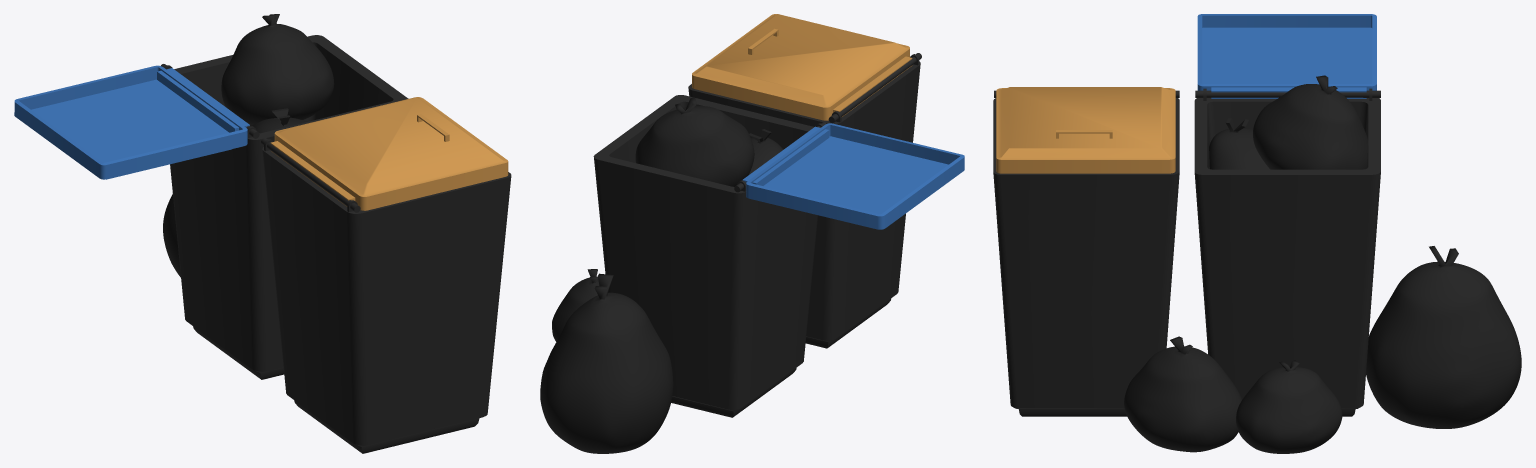
Rendered from TRASHCAN.fbx.
The picture shows the model from 3 angles, left to right: view 1: azimuth 30°, elevation 25°; view 2: azimuth 150°, elevation 25°; view 3: azimuth 270°, elevation 25°; orthographic projection. The views are drawn at different scales.
Parts seen in each view (by area): view 1: Cube.005, Cube.007, Plastics; view 2: Cube.007, Cube.005, Plastics; view 3: Cube.005, Cube.007, Plastics.
Part boxes in pixels (x1,y1,x2,y2): Cube.005: (261,97,511,453); Cube.007: (14,35,408,379); Plastics: (163,14,334,277); Cube.007: (593,95,964,417); Cube.005: (688,14,921,348); Plastics: (540,97,783,453); Cube.005: (993,87,1179,416); Cube.007: (1194,14,1380,416); Plastics: (1124,75,1521,453).
Size of the model in its own units: 478 by 387 by 558.
